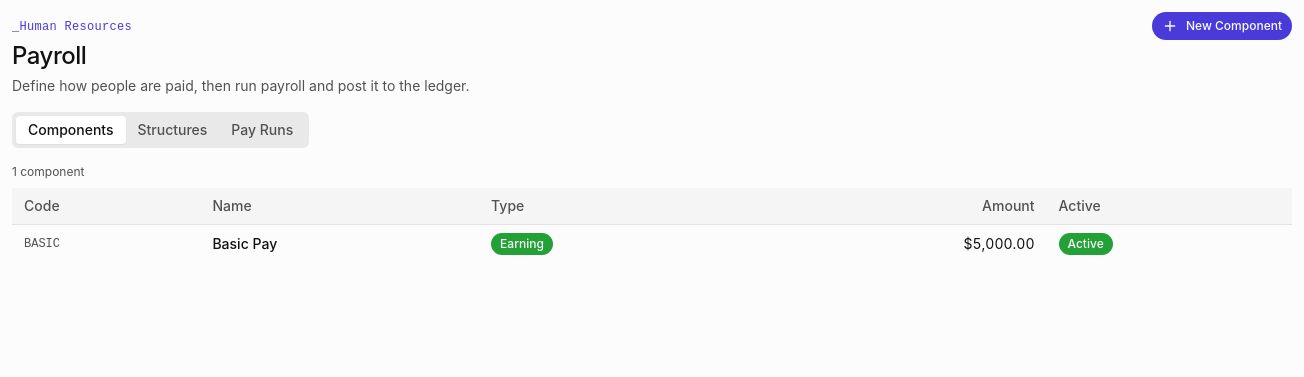
Test: PayrollPage › generates payslips for a draft run and shows the summary
Click the tab "Pay Runs".
click(262, 130)  # box [219,116,305,144]
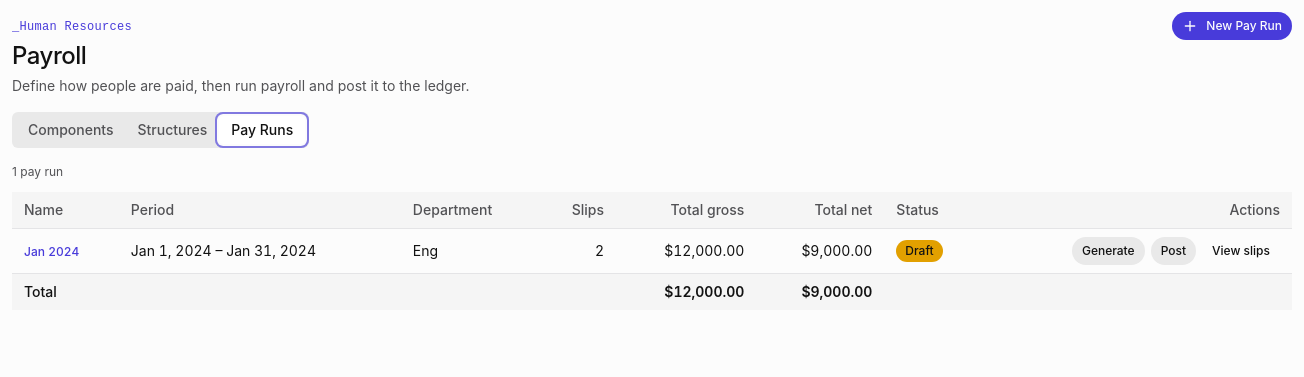
Check: the button "Jan 2024" is shown, box [24,244,79,260]
Click the button "Generate".
click(1108, 250)  # box [1072,236,1145,264]
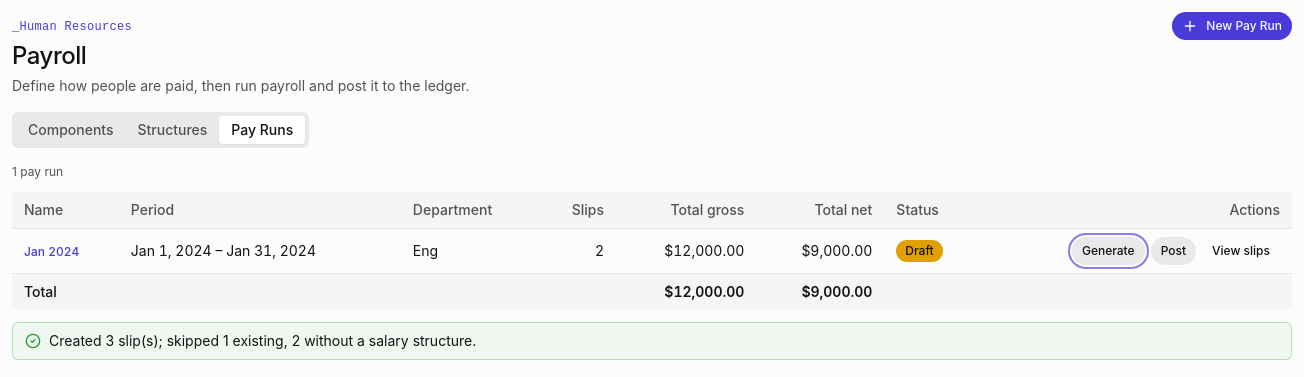
Check: the text "Created 3 slip(s); skipped 1 existing, 2 without" is shown, box [49,330,476,350]
